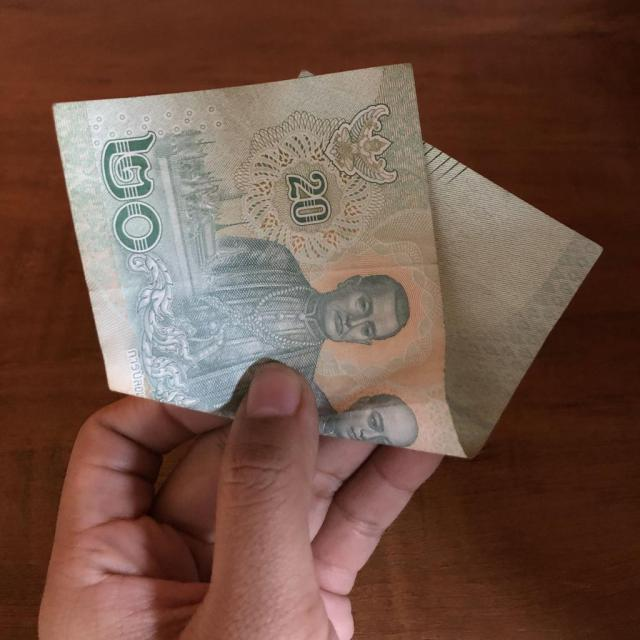THAI20: (54, 65, 598, 456)
